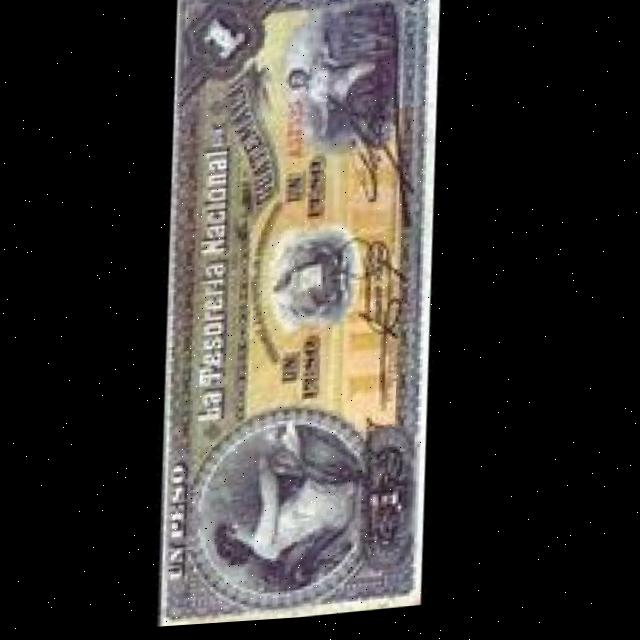banknote: (140, 0, 459, 631)
